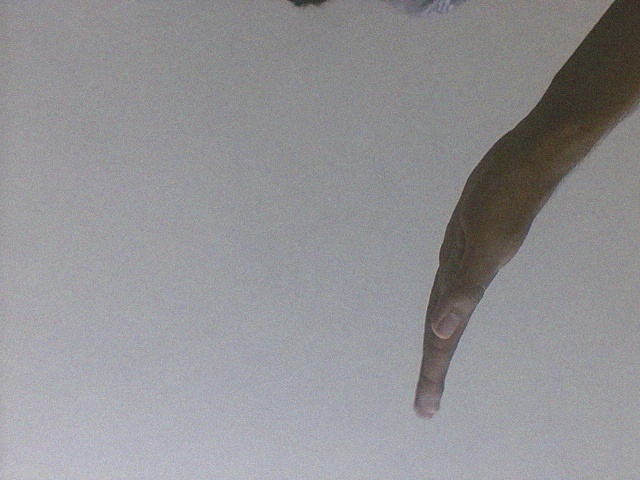hand: (407, 128, 543, 419)
